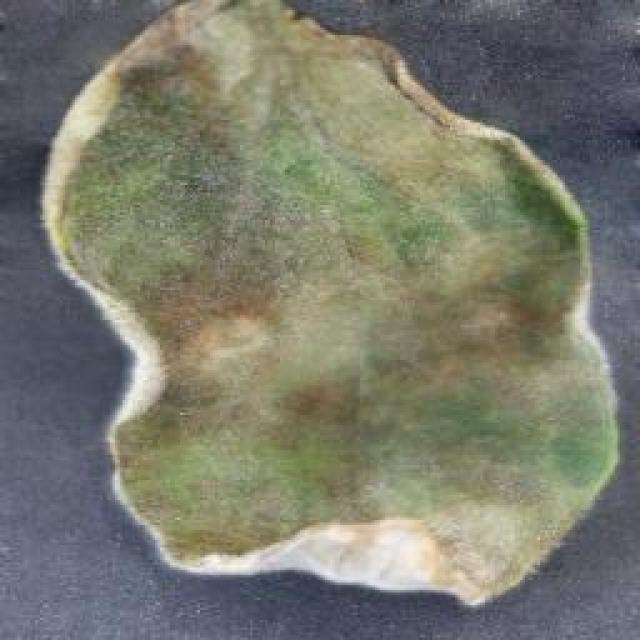Tomato___Late_blight: (40, 0, 625, 609)
